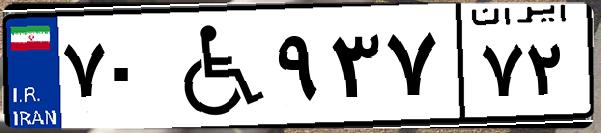0: (110, 28, 158, 98)
2: (525, 38, 570, 115)
3: (330, 28, 385, 110)
7: (385, 28, 445, 110), (57, 26, 110, 100), (475, 38, 525, 113)
9: (270, 28, 330, 110)
ژ (معلولین و جانبازان): (158, 12, 270, 120)
